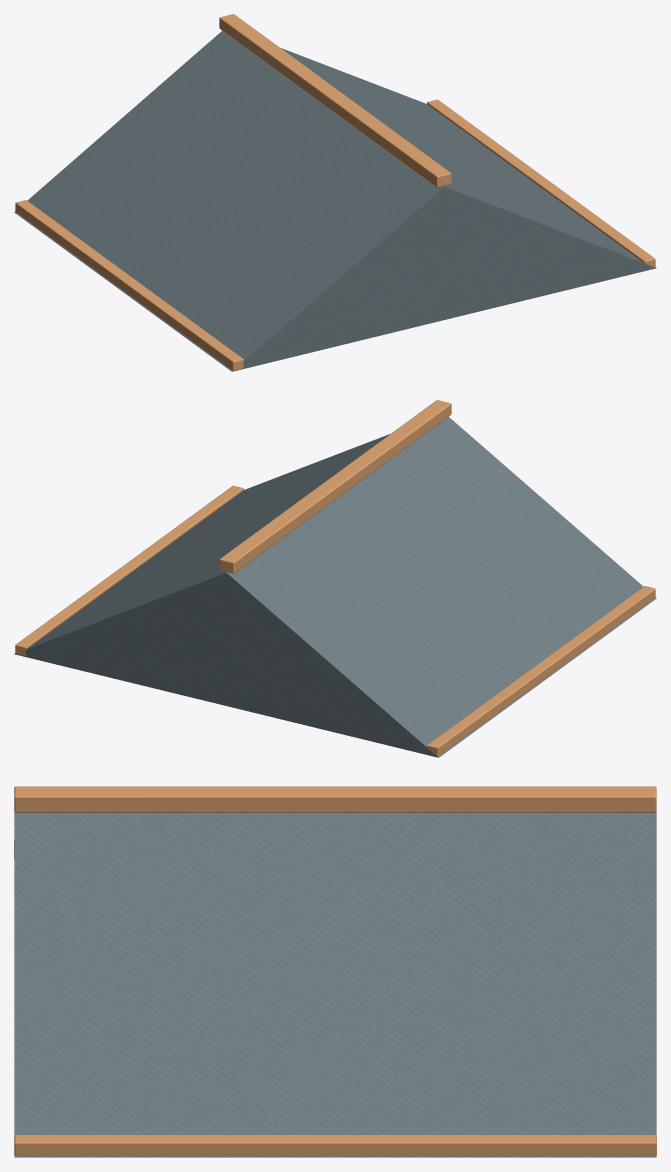
The model's file is dwarven-runeforge-dungeon-dwarven-runeforge-dungeon-ha-bbaf6578__28590.glb.
The picture shows the model from 3 angles, top to bottom: view 1: azimuth 30°, elevation 25°; view 2: azimuth 150°, elevation 25°; view 3: azimuth 270°, elevation 25°; orthographic projection. The views are drawn at different scales.
Parts seen in each view (by area): view 1: dwarven-runeforge-dungeon-hall-roof; view 2: dwarven-runeforge-dungeon-hall-roof; view 3: dwarven-runeforge-dungeon-hall-roof.
Part boxes in pixels (<box>): dwarven-runeforge-dungeon-hall-roof: <box>14,14,656,371</box>; dwarven-runeforge-dungeon-hall-roof: <box>14,400,656,757</box>; dwarven-runeforge-dungeon-hall-roof: <box>14,786,656,1157</box>.
Size of the model in its own units: 4.5 by 1.47 by 4.
2 materials, 1 textured.
